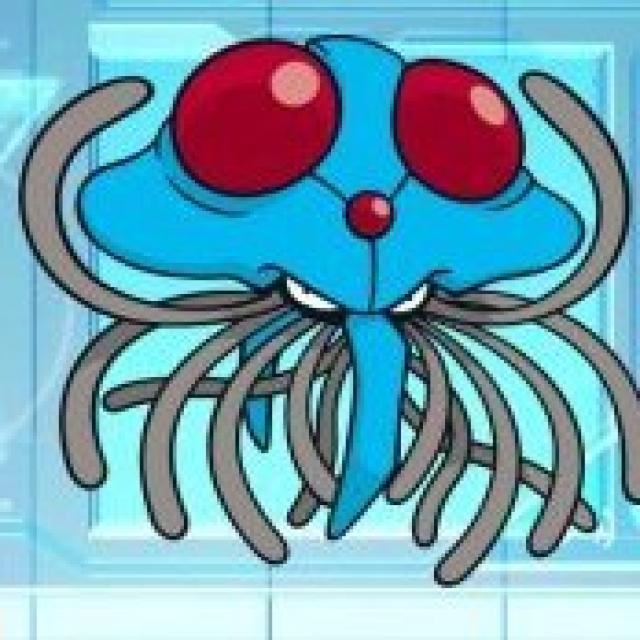Tentacruel: (71, 34, 591, 454)
